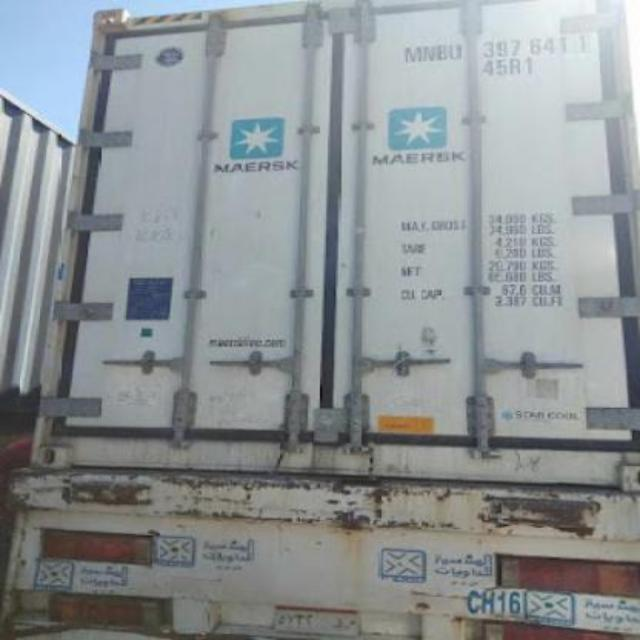1: (556, 34, 572, 54), (578, 32, 590, 56)
3: (482, 37, 494, 57)
4: (540, 33, 554, 53)
6: (526, 36, 542, 54)
7: (510, 36, 522, 56)
9: (496, 40, 508, 58)
B: (436, 44, 448, 60)
M: (406, 45, 422, 61)
N: (420, 44, 432, 60)
U: (448, 42, 462, 62)
